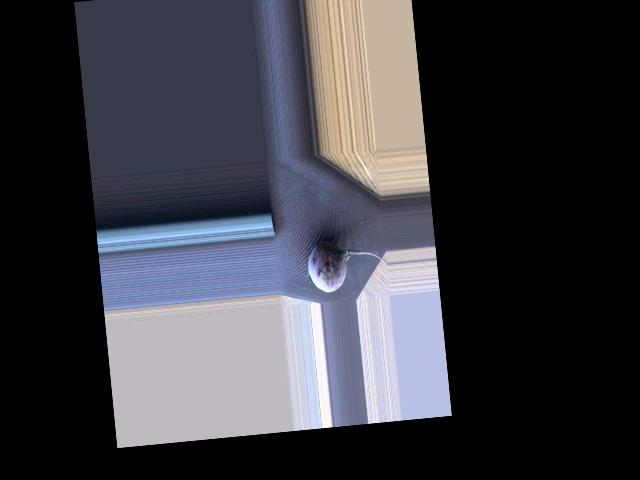beet: (305, 235, 389, 293)
